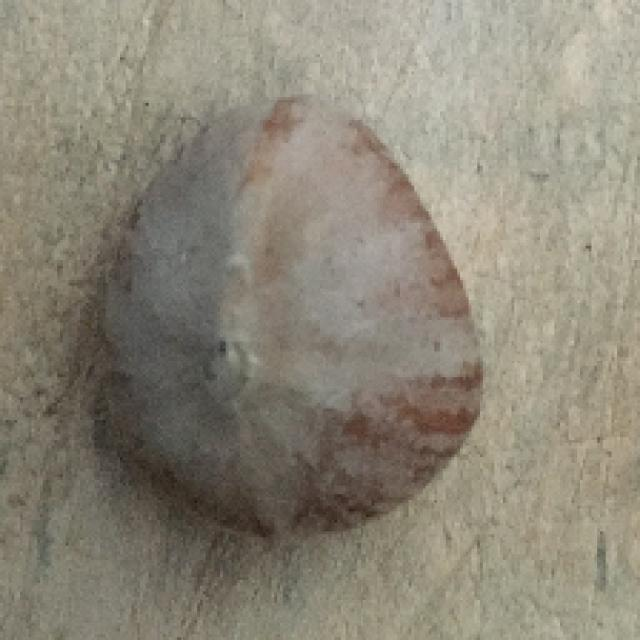qualityHazelnut: (86, 95, 486, 548)
